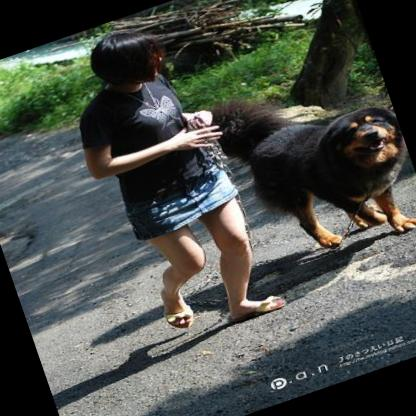Tibetan_mastiff: (191, 47, 416, 285)
